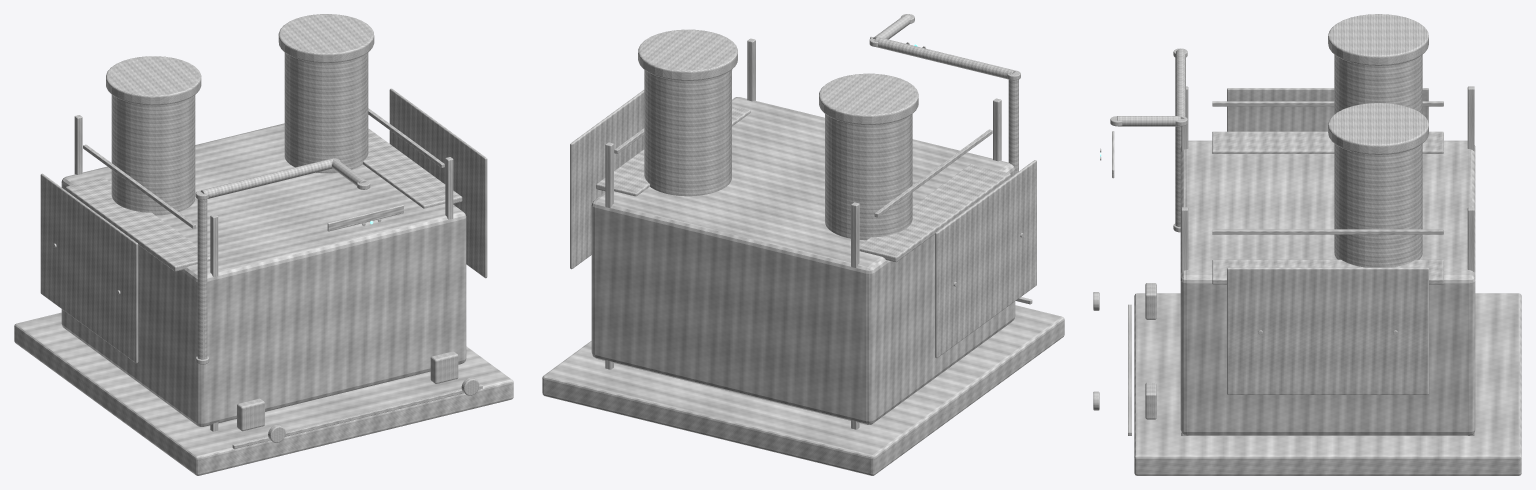
The model's file is water_extractor_variant_a.glb.
3 views of the same model, side by side, from view 1: azimuth 30°, elevation 25°; view 2: azimuth 150°, elevation 25°; view 3: azimuth 270°, elevation 25° (orthographic). The views are drawn at different scales.
Parts seen in each view (by area): view 1: Industrial lower housing, Foundation skid, Side access panel, Process vessel.001, Process vessel, Side access panel.001, Service platform, Vessel cap, Vessel cap.001, Service platform.001, Process pipe, Process pipe.001 (+9 smaller); view 2: Industrial lower housing, Foundation skid, Side access panel, Process vessel.001, Process vessel, Side access panel.001, Service platform, Vessel cap.001, Vessel cap, Process pipe.001, Service platform.001, Process pipe (+5 smaller); view 3: Industrial lower housing, Foundation skid, Side access panel.001, Process vessel.001, Side access panel, Vessel cap, Vessel cap.001, Process vessel, Service platform, Service platform.001, Safety rail.001, Safety rail (+8 smaller).
Boxes of the visible parts, box(x1,y1,x2,y2) form: Industrial lower housing: box(61, 123, 466, 426); Foundation skid: box(14, 312, 513, 475); Side access panel: box(40, 173, 138, 363); Process vessel.001: box(284, 52, 368, 173); Process vessel: box(111, 95, 195, 215); Side access panel.001: box(389, 88, 487, 278); Service platform: box(65, 177, 210, 271); Vessel cap: box(106, 56, 201, 105); Vessel cap.001: box(278, 14, 374, 63); Service platform.001: box(363, 128, 462, 208); Process pipe: box(197, 199, 207, 359); Process pipe.001: box(200, 158, 333, 198); Industrial lower housing: box(591, 97, 1015, 424); Foundation skid: box(542, 305, 1064, 475); Side access panel: box(935, 160, 1036, 358); Process vessel.001: box(644, 70, 731, 196); Process vessel: box(825, 114, 912, 240); Side access panel.001: box(570, 90, 644, 269); Service platform: box(859, 164, 1010, 262); Vessel cap.001: box(638, 29, 737, 80); Vessel cap: box(819, 73, 918, 124); Process pipe.001: box(874, 37, 1015, 79); Service platform.001: box(596, 105, 750, 196); Process pipe: box(1008, 79, 1018, 173); Industrial lower housing: box(1180, 140, 1475, 435); Foundation skid: box(1134, 293, 1521, 475); Side access panel.001: box(1227, 267, 1428, 394); Process vessel.001: box(1334, 143, 1422, 267); Side access panel: box(1227, 88, 1428, 131); Vessel cap: box(1328, 14, 1428, 65); Vessel cap.001: box(1328, 103, 1428, 154); Process vessel: box(1334, 54, 1422, 114); Service platform: box(1212, 131, 1443, 153); Service platform.001: box(1212, 259, 1443, 284); Safety rail.001: box(1212, 229, 1443, 234); Safety rail: box(1212, 101, 1443, 106).
Size of what is drawn, in the model's own units: 8.24 by 6.62 by 8.14.
Materials: 7 (7 with a texture image).
